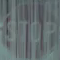Stop: (3, 2, 55, 55)
